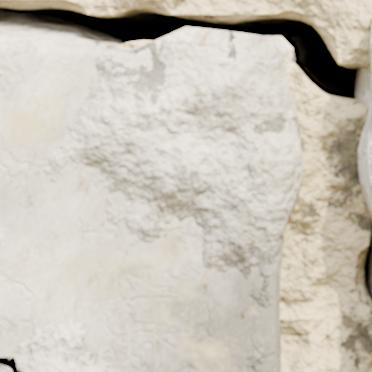brick: (0, 28, 303, 371), (358, 85, 371, 214), (0, 365, 10, 371), (370, 37, 371, 59)
crack: (0, 0, 371, 104), (358, 232, 371, 306), (0, 356, 22, 371)
